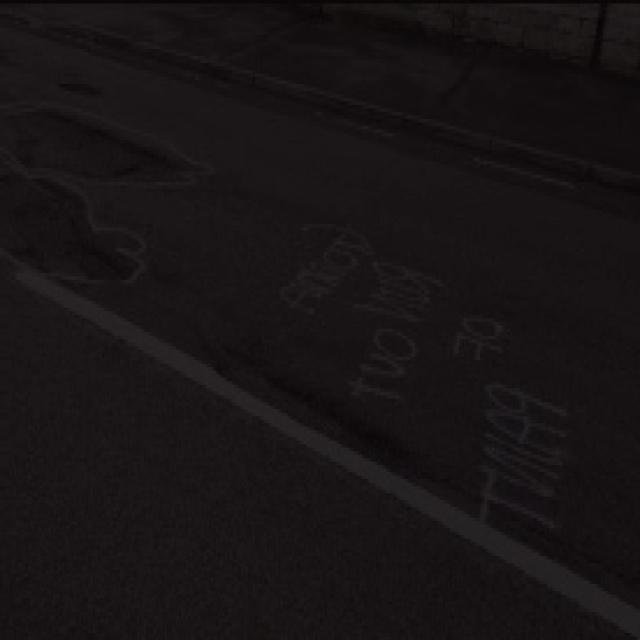Pothole: (0, 74, 202, 189), (0, 155, 136, 294)
